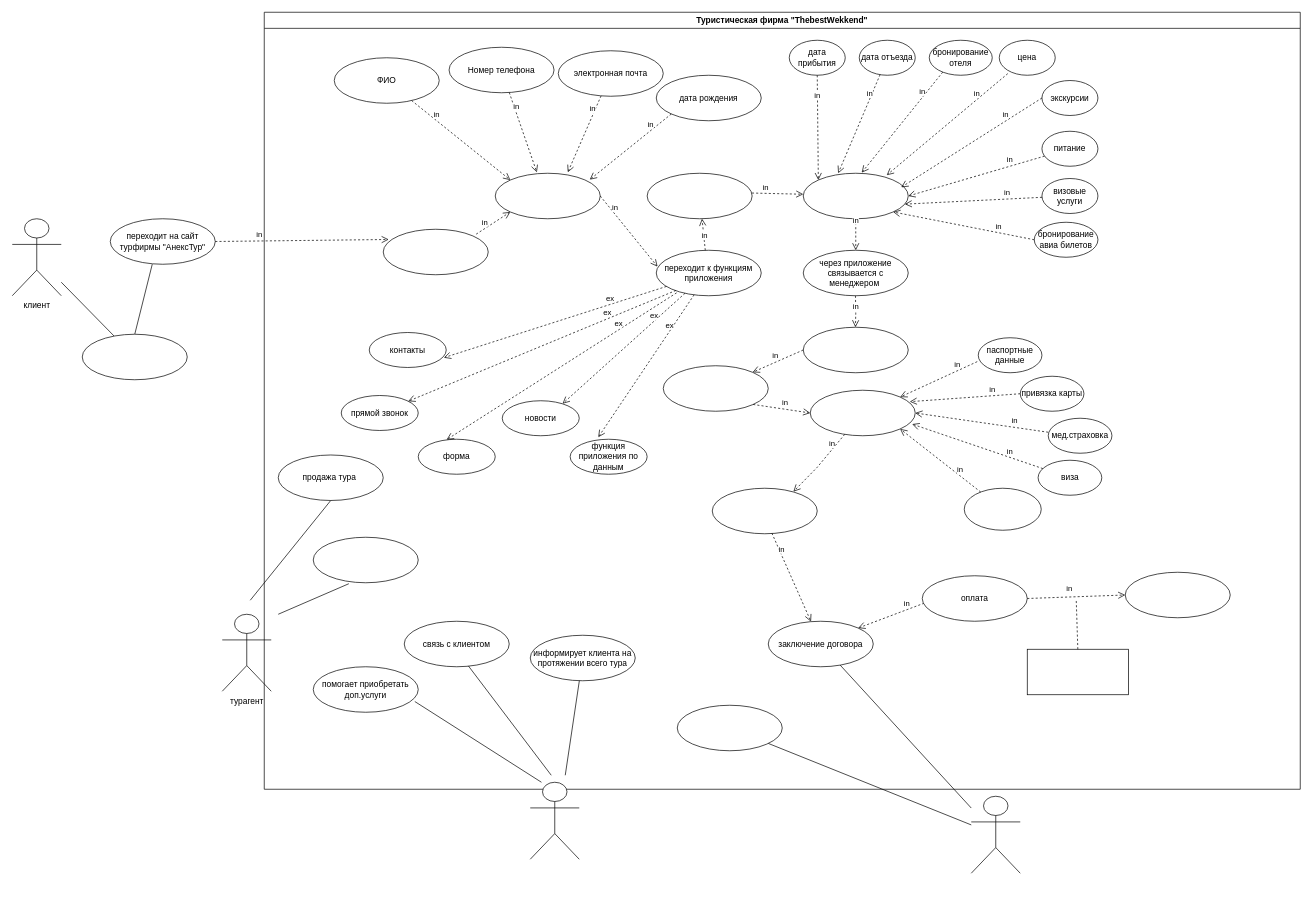
The diagram is 1313 pixels wide and 900 high, and some of its shapes have lost their labels. Each missing label, with the box of its shape:
бронирование тура: (313, 537, 418, 583)
ваучер (вся информация по туру): (964, 488, 1041, 530)
выбирает раздел фильтров: (646, 173, 752, 219)
директор: (971, 796, 1020, 873)
если банк принял платеж: (1027, 649, 1128, 695)
запрос на бронирование тура: (663, 365, 768, 411)
контроль над всеми сотрудниками: (677, 705, 782, 751)
менеджер: (530, 782, 579, 859)
находит турагентство в интернете: (82, 334, 187, 380)
первый этап регистрации: (495, 173, 600, 219)
получение чека и билета: (1125, 572, 1230, 618)
проходит второй этап регистрации: (810, 390, 915, 436)
связывается с директором: (712, 488, 817, 534)
устанавливает мобильное приложение: (383, 229, 488, 275)
уточняет на счет всех выбранных услуг: (803, 327, 908, 373)
формирует тур: (803, 173, 908, 219)
